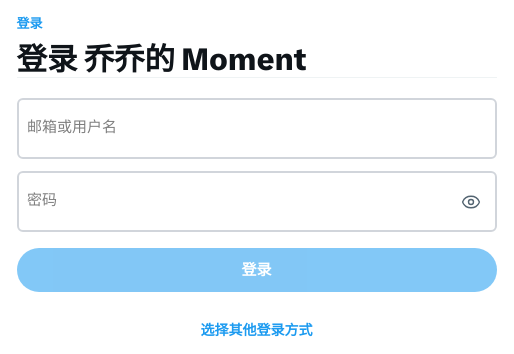
Scenario: owner login third-party entry points › keeps password visibility on an icon button
This screenshot has width=514, height=354.
Type "visibility-check" into the password field labelled "密码".
click(256, 202); type("visibility-check")  # box x1=18 y1=173 x2=494 y2=230
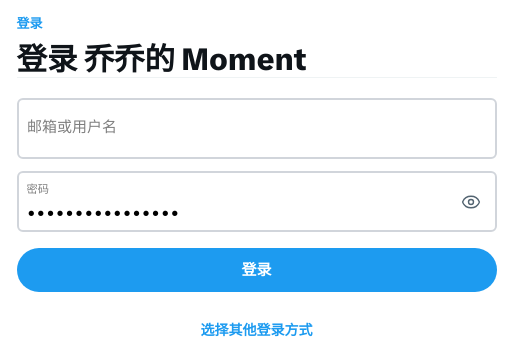
expect the icon is shown: met, box x1=460 y1=192 x2=480 y2=212
Click the button named "显示密码".
click(470, 202)  # box x1=448 y1=180 x2=492 y2=224
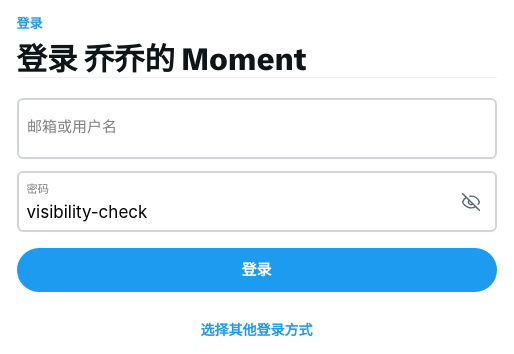
expect the field labelled "密码" shows its text: met, box x1=18 y1=173 x2=494 y2=230
Click the button named "隐藏密码".
click(470, 202)  # box x1=448 y1=180 x2=492 y2=224
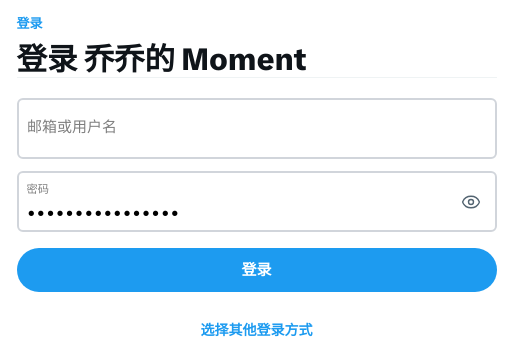
expect the password field labelled "密码" hides its text: met, box x1=18 y1=173 x2=494 y2=230
